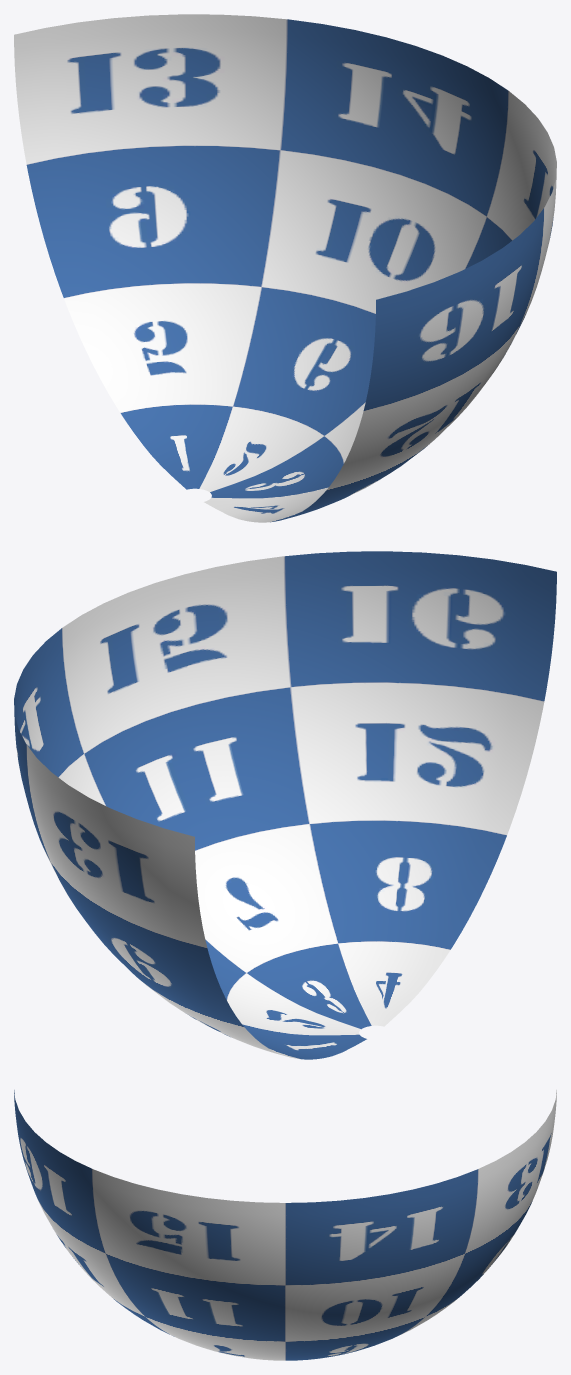
File: Rui_Spl_Sphere02.fbx
3 views of the same model, one above another, from view 1: azimuth 30°, elevation 25°; view 2: azimuth 150°, elevation 25°; view 3: azimuth 270°, elevation 25° (orthographic). The views are drawn at different scales.
Parts seen in each view (by area): view 1: SM_d_e_P1007_V00_C00_SplKrt_Quarter_00; view 2: SM_d_e_P1007_V00_C00_SplKrt_Quarter_00; view 3: SM_d_e_P1007_V00_C00_SplKrt_Quarter_00.
Part boxes in pixels (box(x1,y1,x2,y2)): SM_d_e_P1007_V00_C00_SplKrt_Quarter_00: box(14, 14, 556, 522); SM_d_e_P1007_V00_C00_SplKrt_Quarter_00: box(14, 551, 556, 1059); SM_d_e_P1007_V00_C00_SplKrt_Quarter_00: box(14, 1090, 556, 1360).
Size of the model in its own units: 89.46 by 89.57 by 179.
